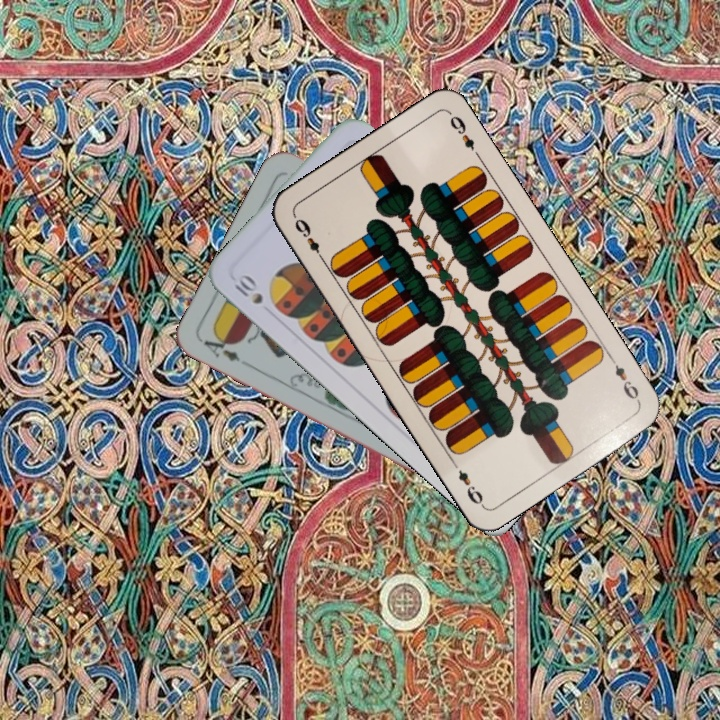E9: (606, 352, 643, 405), (290, 214, 328, 265)
EA: (199, 329, 243, 365)
S10: (229, 269, 266, 307)
